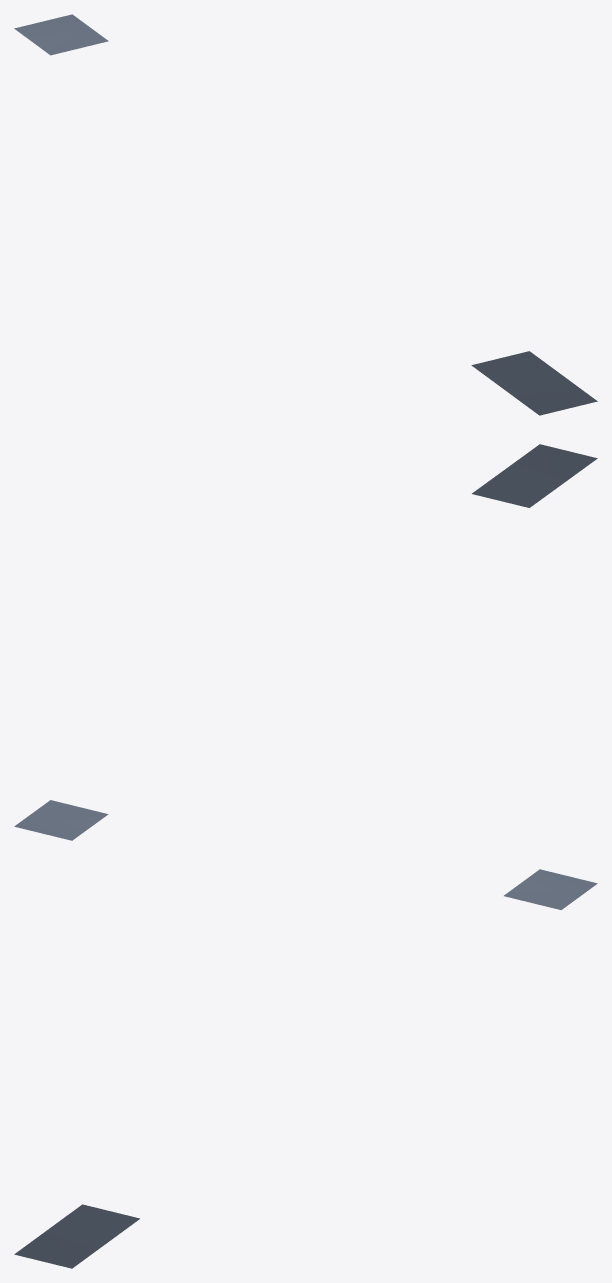
File: atelier_yuka.fbx
The picture shows the model from 3 angles, top to bottom: view 1: azimuth 30°, elevation 25°; view 2: azimuth 150°, elevation 25°; view 3: azimuth 330°, elevation 25°; orthographic projection.
Visible parts, largest first — view 1: SketchUp; view 2: SketchUp; view 3: SketchUp.
Part boxes in pixels (x1,y1,x2,y2): SketchUp: [14, 14, 597, 415]; SketchUp: [14, 444, 597, 840]; SketchUp: [14, 869, 597, 1268].
Size of what is drawn, in the model's own units: 31.76 by 0.7204 by 488.
